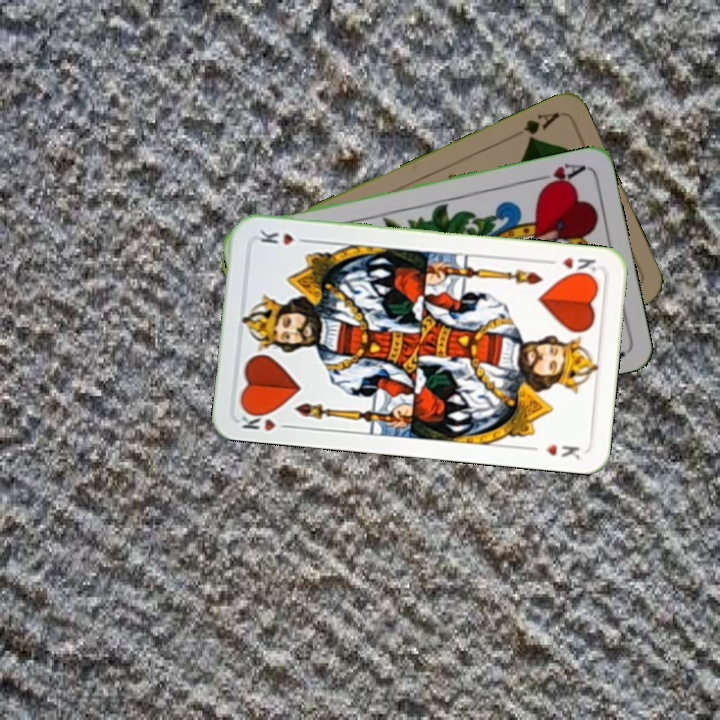GA: (519, 108, 562, 145)
HA: (529, 159, 588, 192)
HK: (237, 405, 295, 434), (543, 253, 599, 280)
